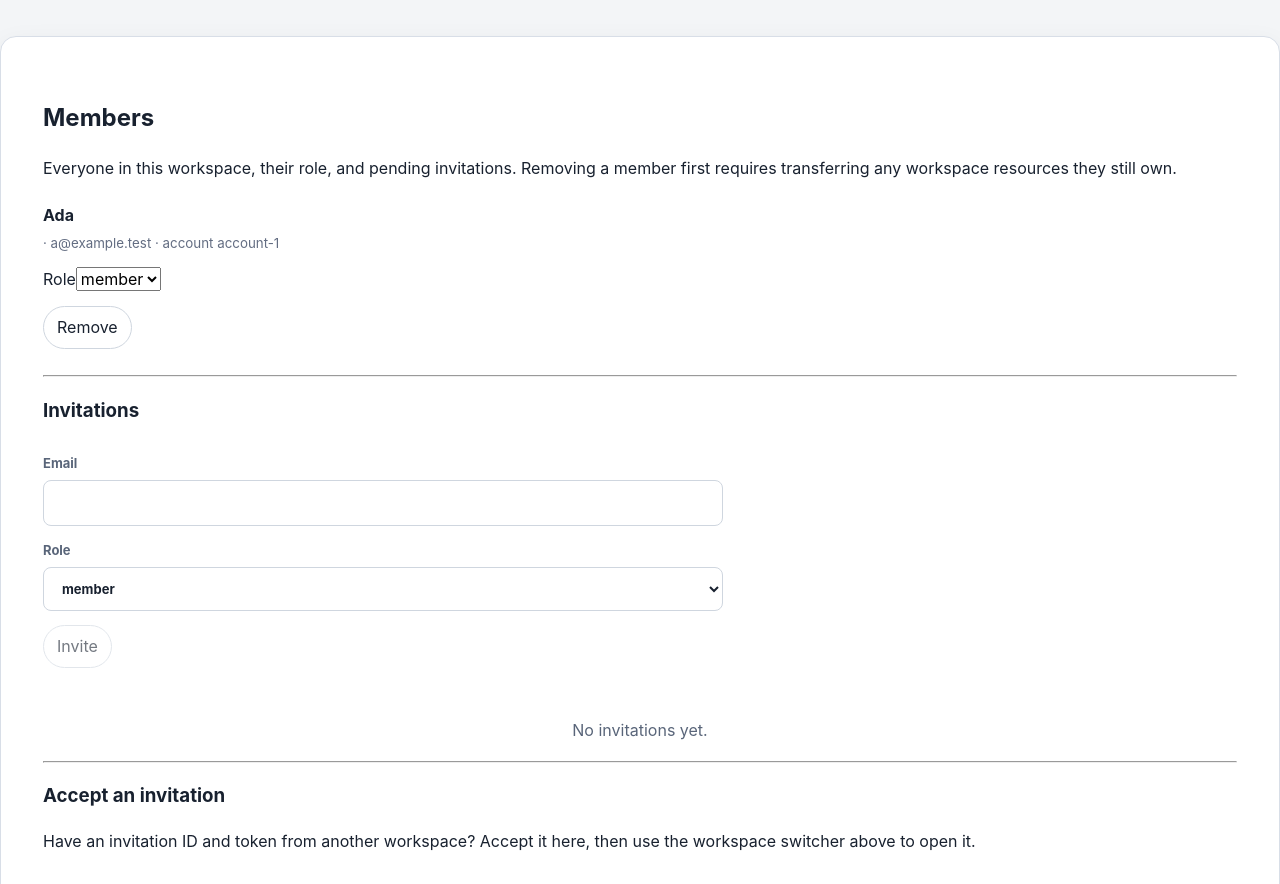
Test: MembersPanel › requires confirmation before removing a member
Expected: the text "Ada" is shown, [43,205,74,225]
Click the button "Remove". click: (87, 327)
box: [43,306,132,349]
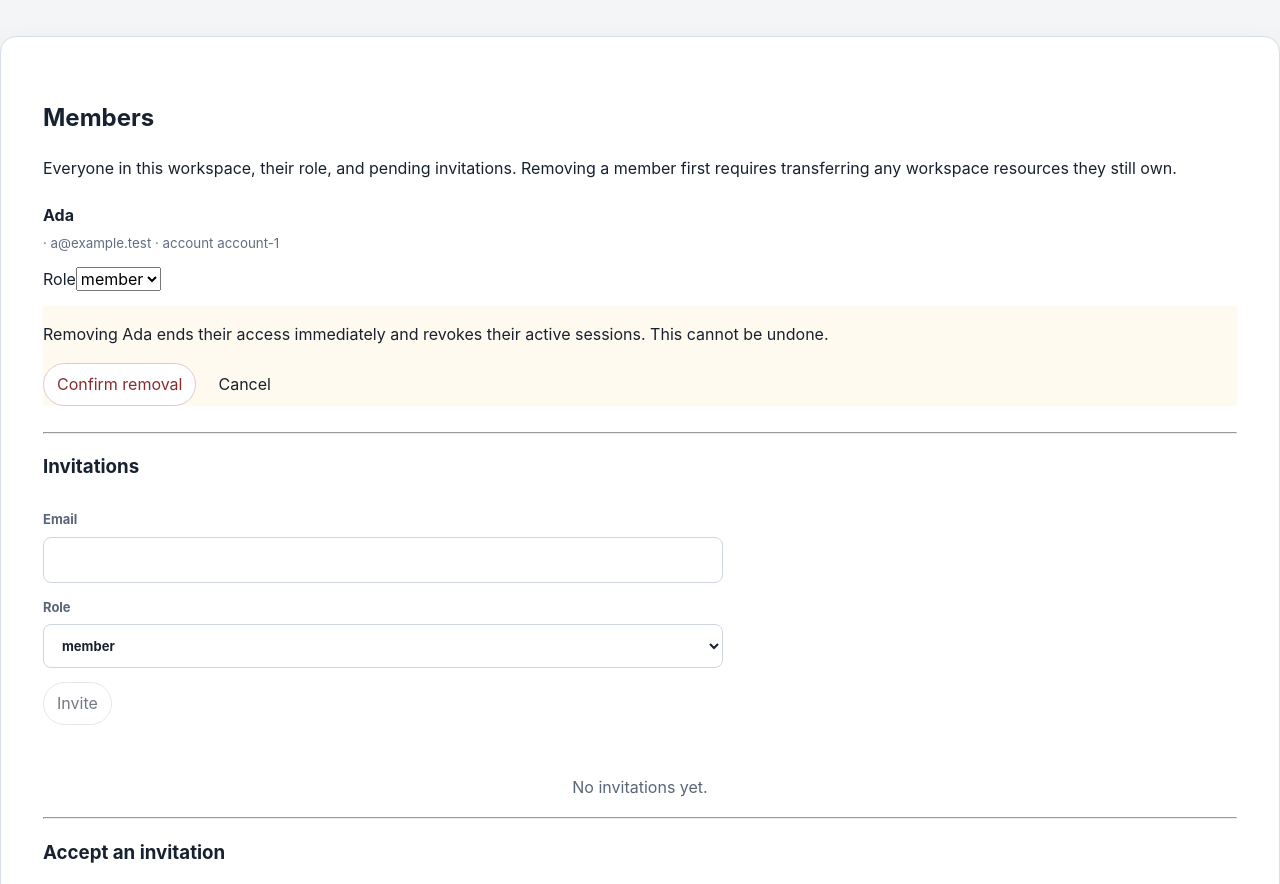
Expected: the text "ends their access immediately" is shown, [43,324,828,344]
Expected: the button "Confirm removal" is shown, [43,363,196,406]
